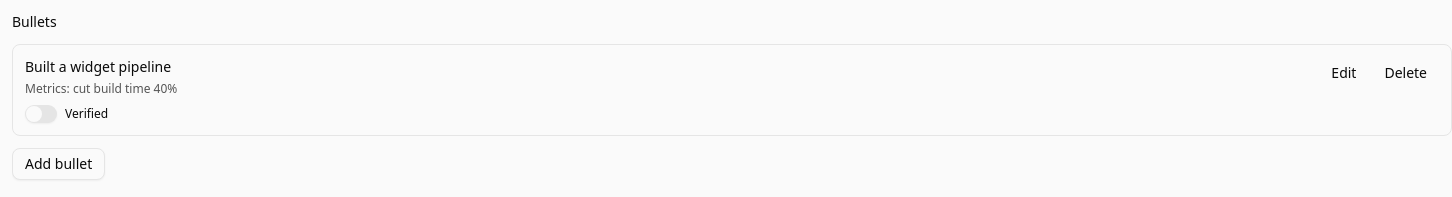
BulletEditor › deletes a bullet after confirmation
The width and height of the screenshot is (1452, 197).
Click the button "Delete": (1406, 73) [1372,57,1439,89]
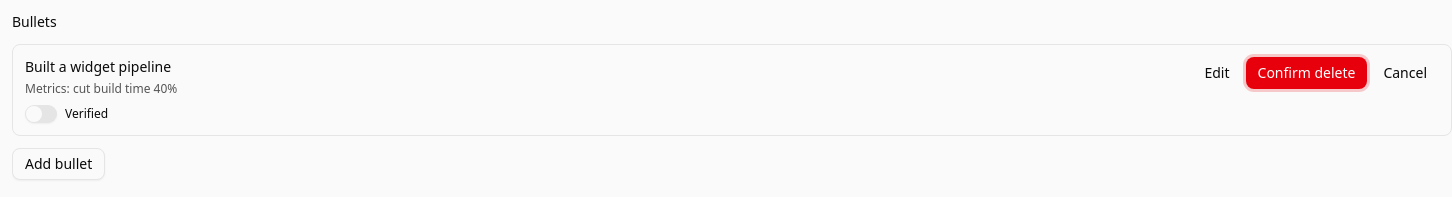
Click the button "Confirm delete": (1306, 73) [1246,57,1367,89]
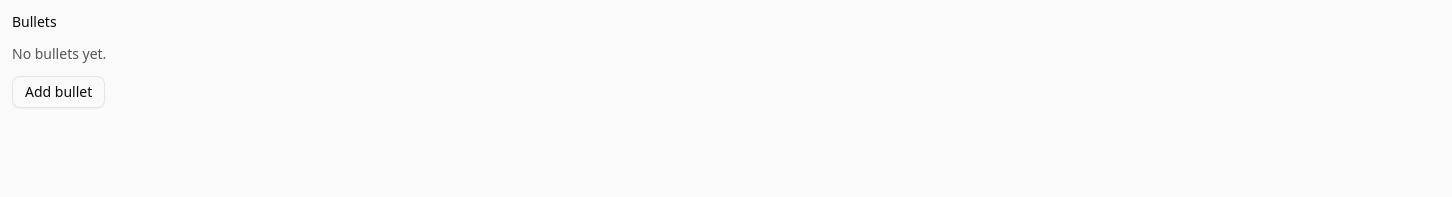
Result: the text "No bullets yet." is shown at [12,44,106,63]
